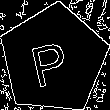P_N: (31, 30, 76, 88)
